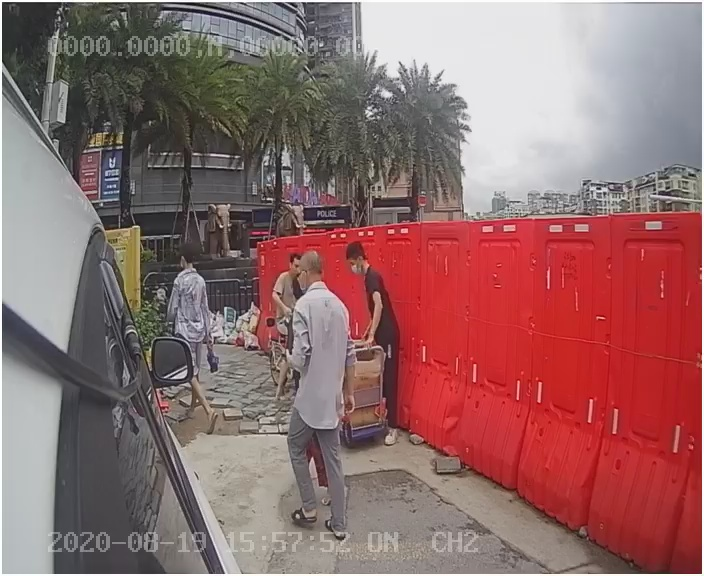person: (271, 256, 364, 531)
